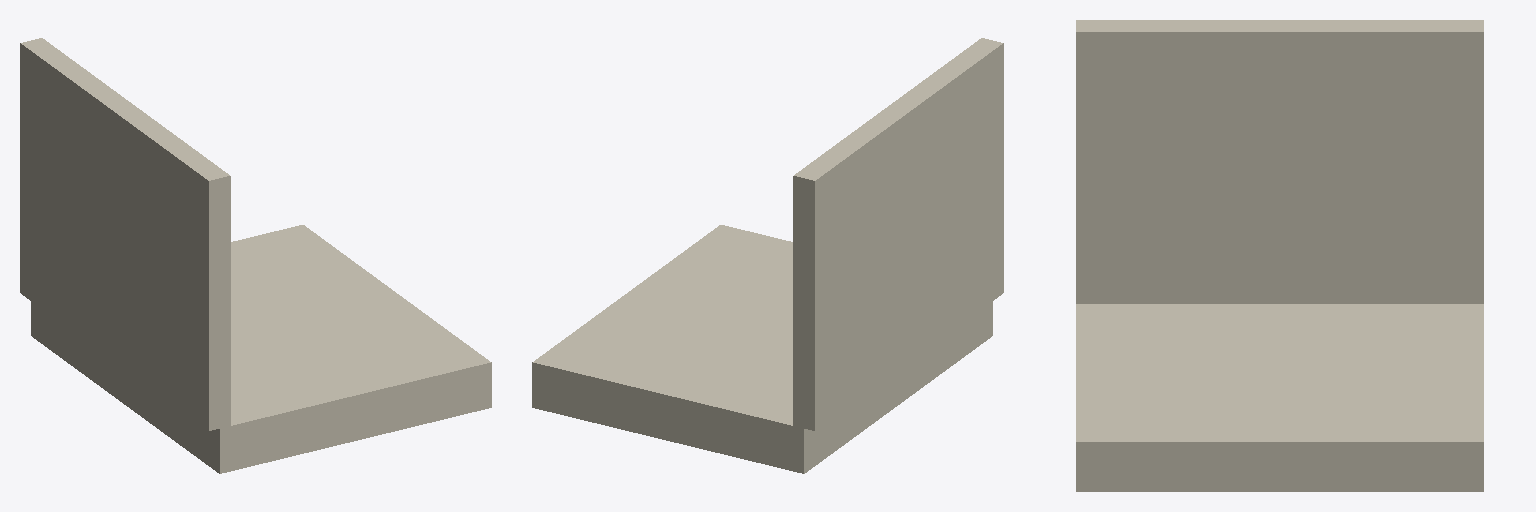
robot.urdf — laptop:
<?xml version="1.0"?>
<robot name="laptop">
  <link name="base_link">
    <inertial>
      <mass value="2.0"/>
      <origin xyz="0 0 0" rpy="0 0 0"/>
      <inertia ixx="0.01527" ixy="0" ixz="0" iyy="0.01068" iyz="0" izz="0.02542"/>
    </inertial>
    <visual>
      <origin xyz="0 0 0" rpy="0 0 0"/>
      <geometry>
        <box size="0.25 0.30 0.04"/>
      </geometry>
      <material name="beige">
        <color rgba="0.82 0.80 0.74 1.0"/>
      </material>
    </visual>
    <collision>
      <origin xyz="0 0 0" rpy="0 0 0"/>
      <geometry>
        <box size="0.25 0.30 0.04"/>
      </geometry>
    </collision>
  </link>

  <link name="screen_link">
    <inertial>
      <mass value="0.6"/>
      <origin xyz="0 0 0.11" rpy="0 0 0"/>
      <inertia ixx="0.00692" ixy="0" ixz="0" iyy="0.00244" iyz="0" izz="0.00452"/>
    </inertial>
    <visual>
      <origin xyz="0 0 0.11" rpy="0 0 0"/>
      <geometry>
        <box size="0.02 0.30 0.22"/>
      </geometry>
      <material name="beige2">
        <color rgba="0.82 0.80 0.74 1.0"/>
      </material>
    </visual>
    <collision>
      <origin xyz="0 0 0.11" rpy="0 0 0"/>
      <geometry>
        <box size="0.02 0.30 0.22"/>
      </geometry>
    </collision>
  </link>

  <joint name="lid_hinge" type="revolute">
    <parent link="base_link"/>
    <child link="screen_link"/>
    <origin xyz="-0.125 0 0.02" rpy="0 0 0"/>
    <axis xyz="0 1 0"/>
    <limit lower="-0.2" upper="1.60" effort="5.0" velocity="2.0"/>
    <dynamics damping="0.1" friction="0.1"/>
  </joint>
</robot>

--- Render facts (derived) ---
Views: 3 orthographic renders of the robot side by side, from view 1: azimuth 30°, elevation 25°; view 2: azimuth 150°, elevation 25°; view 3: azimuth 270°, elevation 25°.
Robot: laptop — 2 links, 1 joints (1 revolute); root link base_link; default pose: every joint at zero.
Links seen in each view (by area): view 1: screen_link, base_link; view 2: screen_link, base_link; view 3: screen_link, base_link.
Link boxes in pixels (x1,y1,x2,y2): screen_link: (20, 38, 230, 430); base_link: (31, 225, 491, 473); screen_link: (793, 38, 1003, 430); base_link: (532, 225, 992, 473); screen_link: (1076, 20, 1483, 303); base_link: (1076, 304, 1483, 491).
Bounding box of the posed robot: 0.26 × 0.3 × 0.26 m (x, y, z).
Geometry: primitives only (box / cylinder / sphere), no mesh files.
